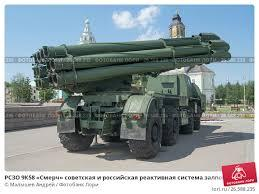MIL_SAM_TEL: (32, 32, 231, 162)
